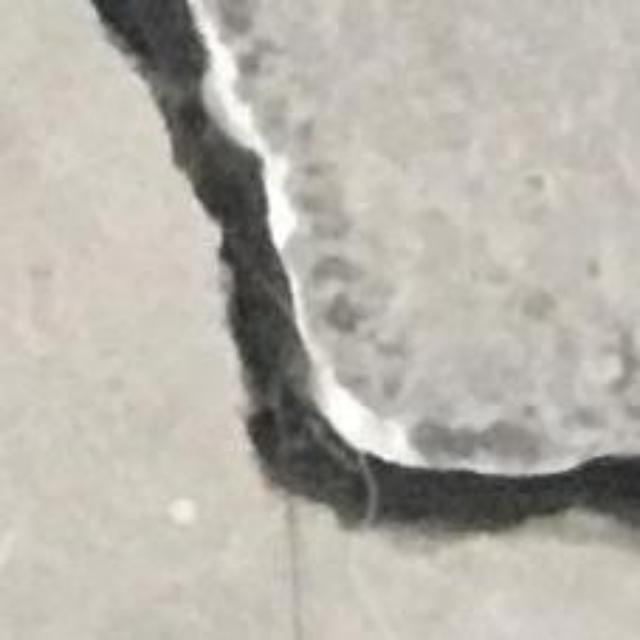crack: (91, 0, 639, 530)
